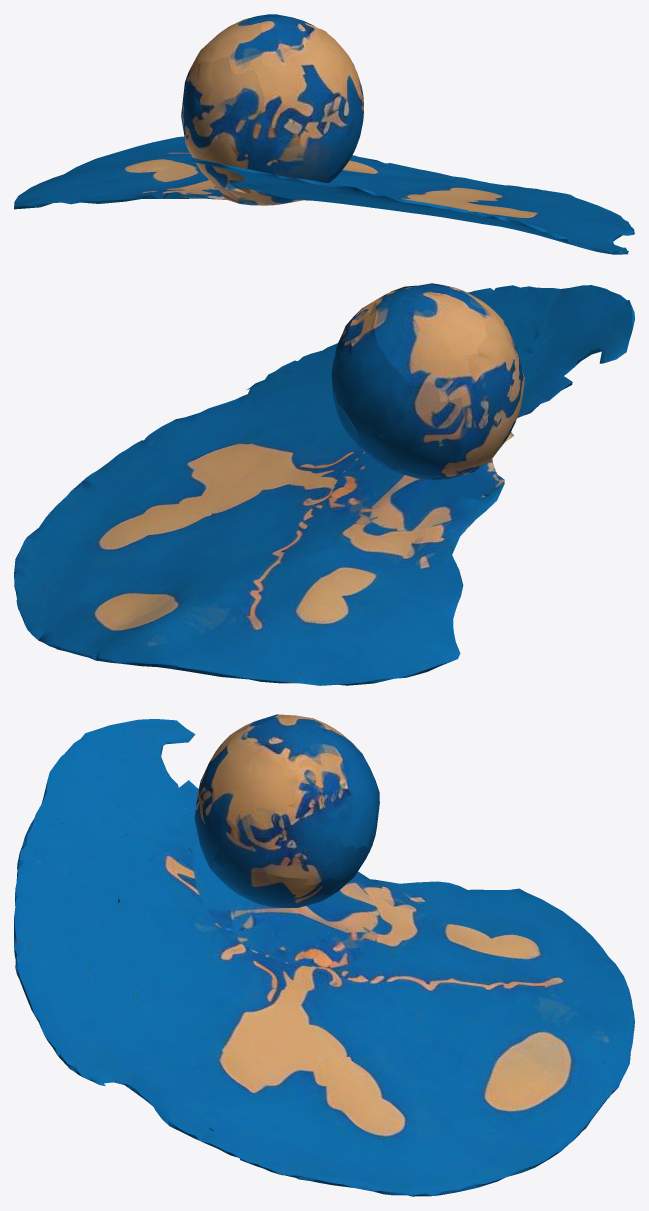
The model's file is universal-studios-japan.glb.
3 views of the same model, one above another, from view 1: azimuth 30°, elevation 25°; view 2: azimuth 150°, elevation 25°; view 3: azimuth 270°, elevation 25° (orthographic). The views are drawn at different scales.
Parts seen in each view (by area): view 1: logan-textured.obj; view 2: logan-textured.obj; view 3: logan-textured.obj.
Boxes of the visible parts, left/top/right/bottom form: logan-textured.obj: left=14, top=14, right=634, bottom=254; logan-textured.obj: left=14, top=283, right=634, bottom=685; logan-textured.obj: left=14, top=714, right=634, bottom=1196.
Size of the model in its own units: 0.9301 by 0.5534 by 1.
1 material, 1 textured.
